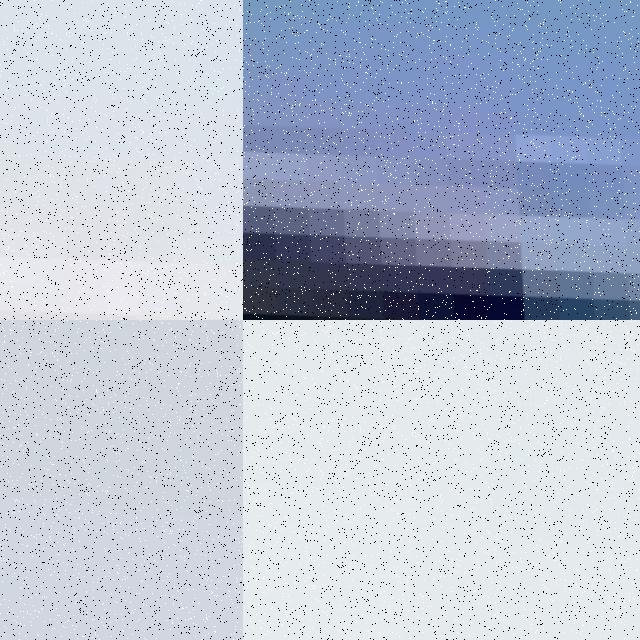0: (243, 0, 640, 320)
drone: (0, 0, 243, 320)
